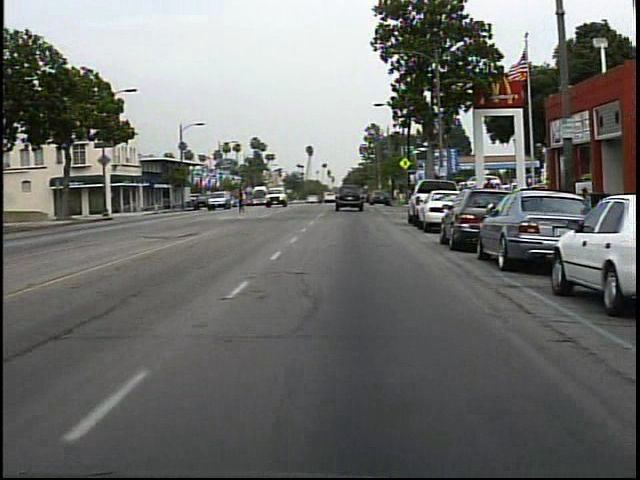person: (479, 173, 500, 217), (234, 183, 252, 216)
